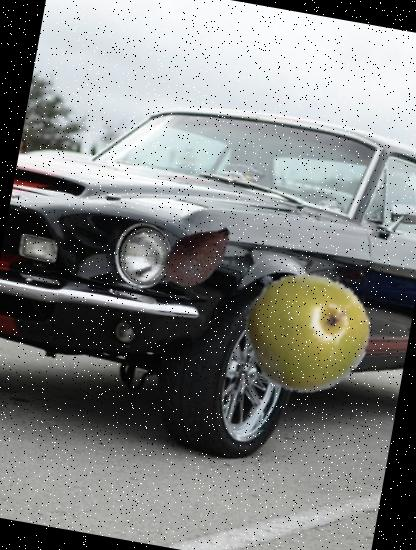Maracuja: (230, 258, 378, 406)
Salak: (144, 208, 245, 308)
